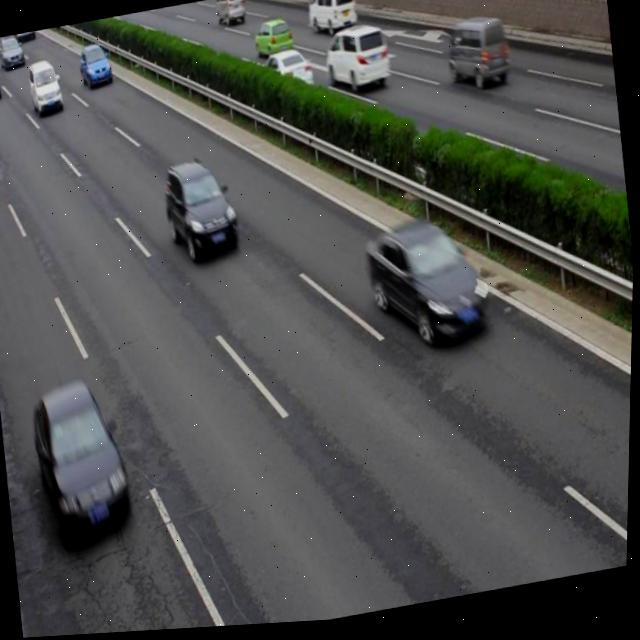car: (362, 214, 496, 360), (30, 379, 136, 549), (160, 152, 241, 267), (322, 28, 390, 97), (262, 50, 314, 101), (27, 60, 64, 112), (252, 19, 294, 63), (78, 42, 113, 88), (0, 34, 25, 69)
truck: (445, 21, 511, 99), (305, 0, 358, 40), (215, 0, 244, 27)
